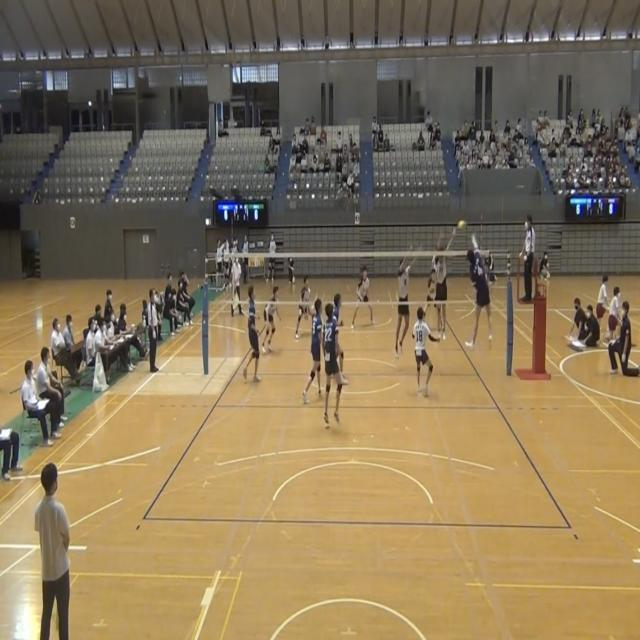spike: (455, 216, 500, 360)
